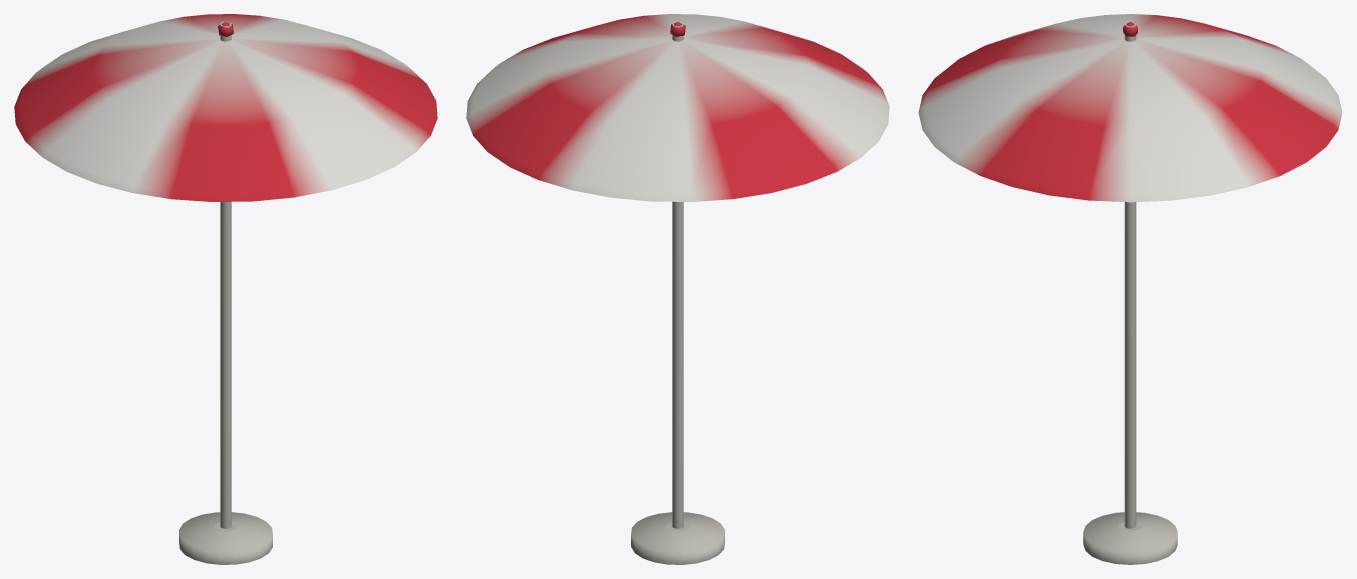
The model's file is furn_beach_umbrella.glb.
The picture shows the model from 3 angles, left to right: view 1: azimuth 30°, elevation 25°; view 2: azimuth 150°, elevation 25°; view 3: azimuth 270°, elevation 25°; orthographic projection.
Parts seen in each view (by area): view 1: furn_beach_umbrella_main; view 2: furn_beach_umbrella_main; view 3: furn_beach_umbrella_main.
Boxes of the visible parts, x1,y1,x2,y2 form: furn_beach_umbrella_main: (14,14,437,564); furn_beach_umbrella_main: (466,14,889,564); furn_beach_umbrella_main: (918,14,1342,564).
Bounding box in the file's own units: 1.44 × 1.96 × 1.44.
